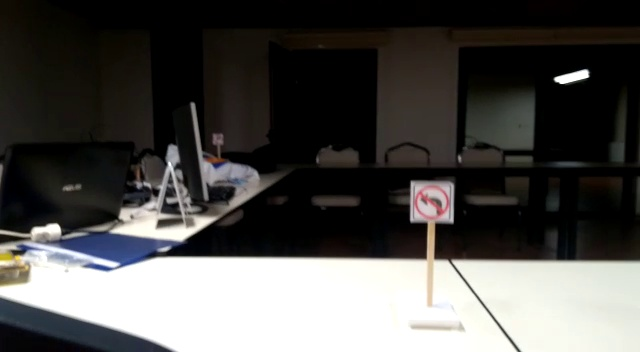sola_donulmez: (413, 183, 449, 218)
